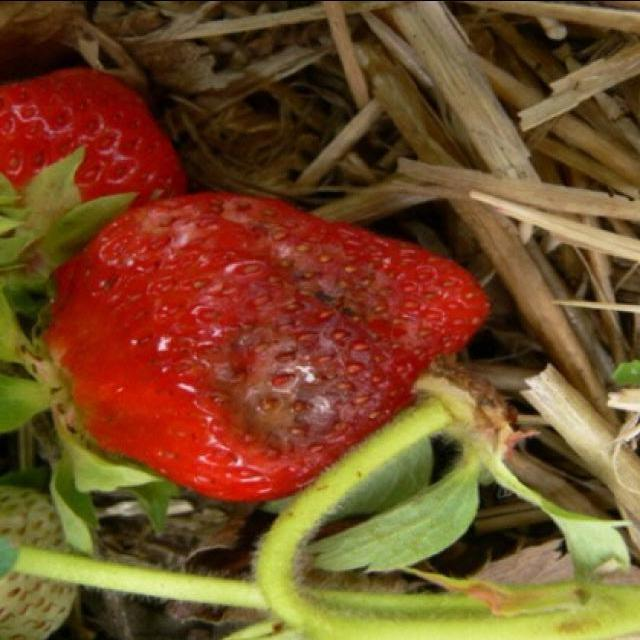Anthracnose Fruit Rot: (61, 188, 494, 500)
